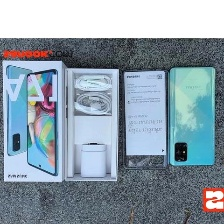book: (60, 63, 123, 184), (119, 67, 170, 158)
carton: (0, 57, 66, 185)
phone: (165, 63, 218, 168)
